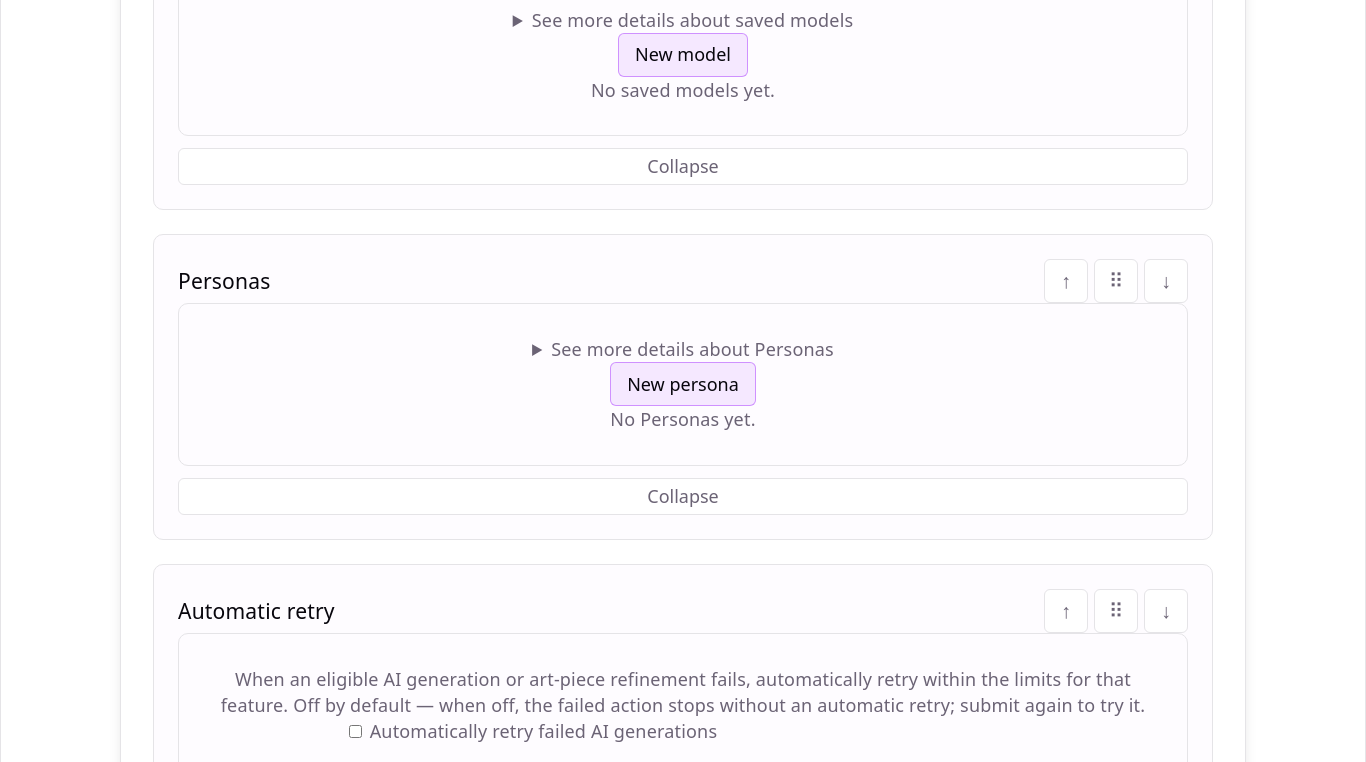
Test: AccountSettings › adds and removes a Persona
The image size is (1366, 762).
(page scrolled)
Expected: the text "No Personas yet." is shown, left=610, top=407, right=756, bottom=431
Step 1. Click the button "New persona" → coordinates (683, 384), box left=610, top=362, right=756, bottom=406
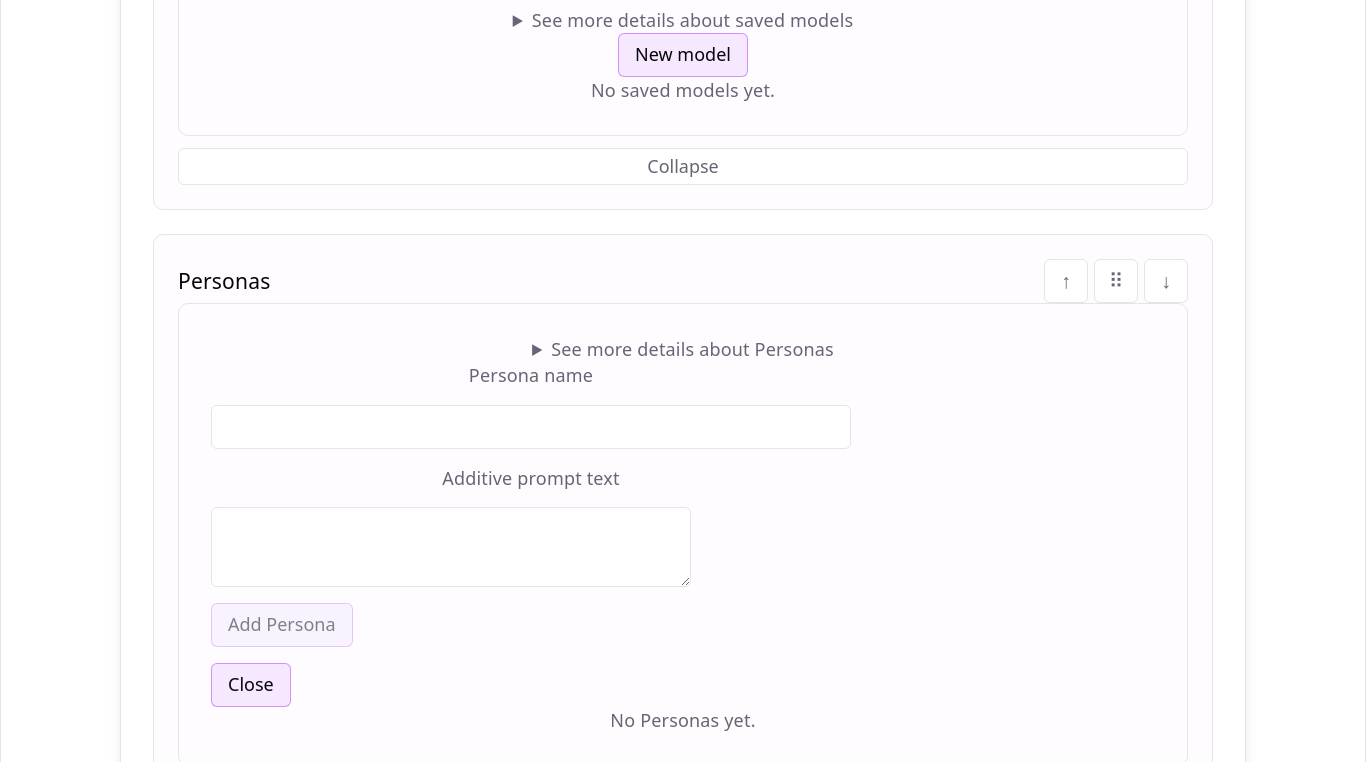
Step 2. Type "Playful" into the field labelled "Persona name" → coordinates (531, 427), box left=211, top=404, right=851, bottom=449
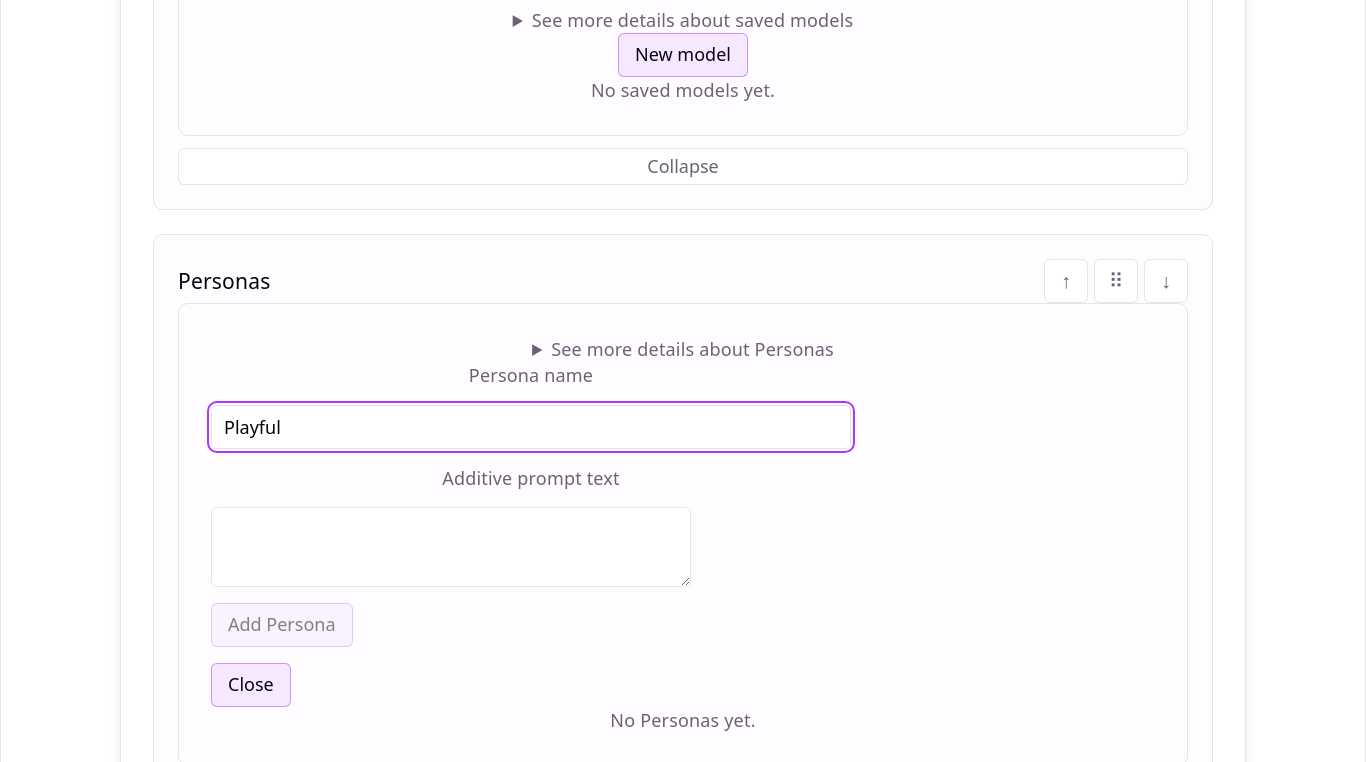
Step 3. Type "Prefer bright colors." into the text box labelled "Additive prompt text" → coordinates (451, 547), box left=211, top=507, right=691, bottom=587
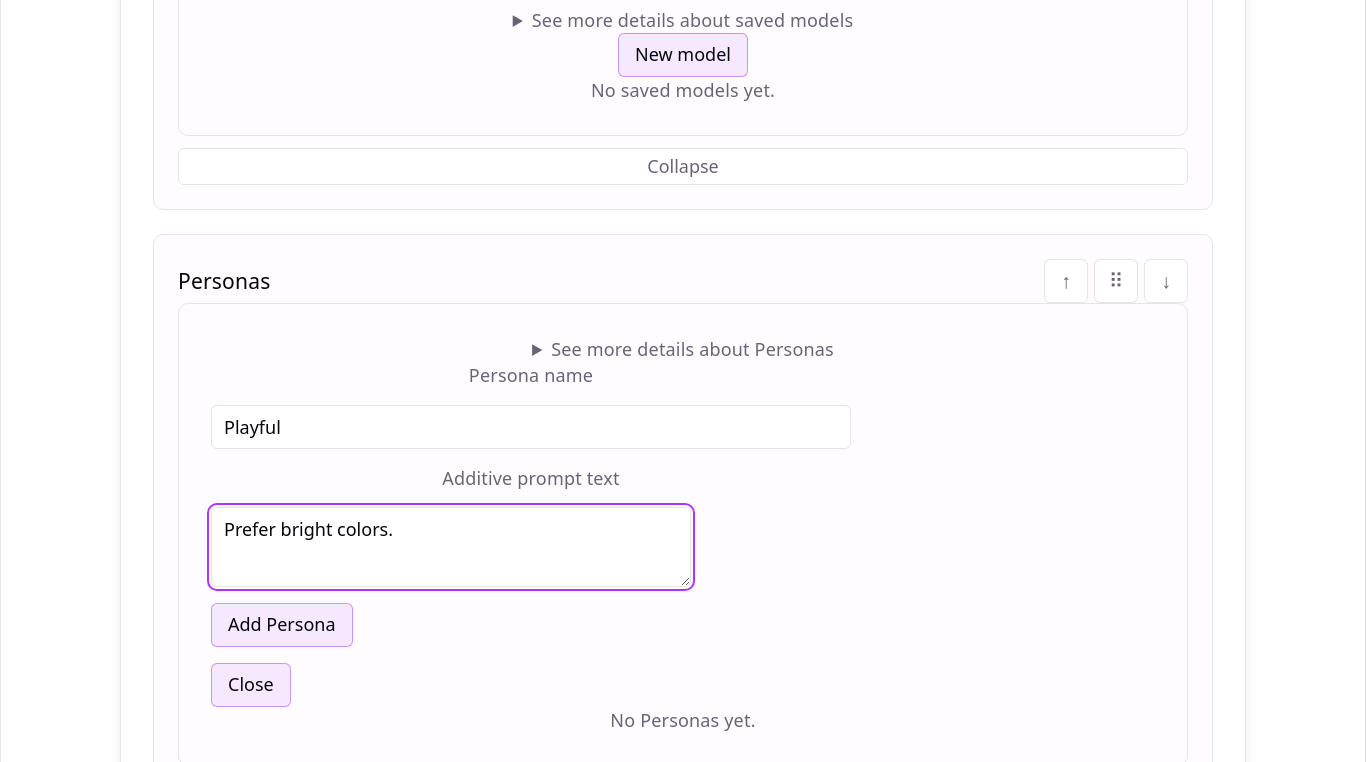
Step 4. Click the button "Add Persona" → coordinates (282, 625), box left=211, top=603, right=352, bottom=647
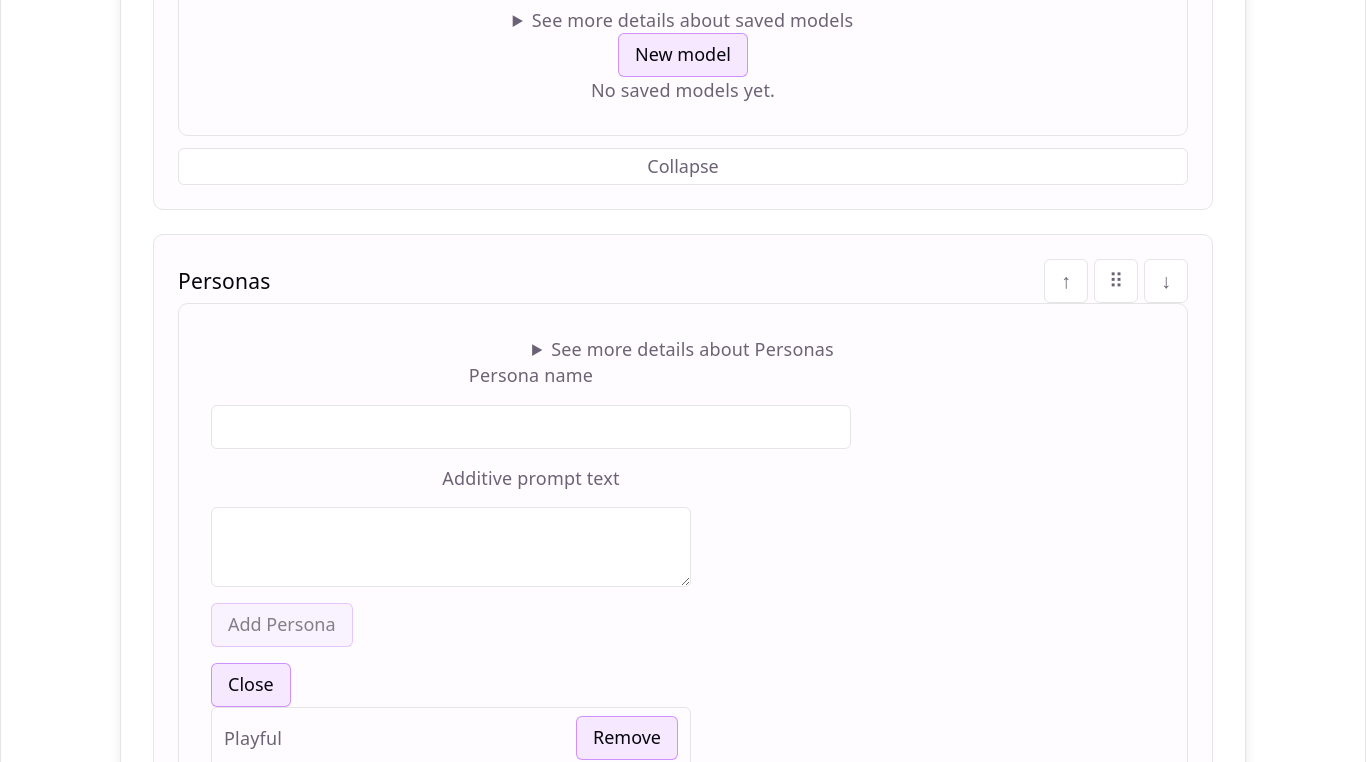
Now the text "Playful" is shown, box left=224, top=725, right=282, bottom=751
Step 5. Click the button with aria-label "remove persona playful" → coordinates (627, 738), box left=576, top=716, right=678, bottom=760
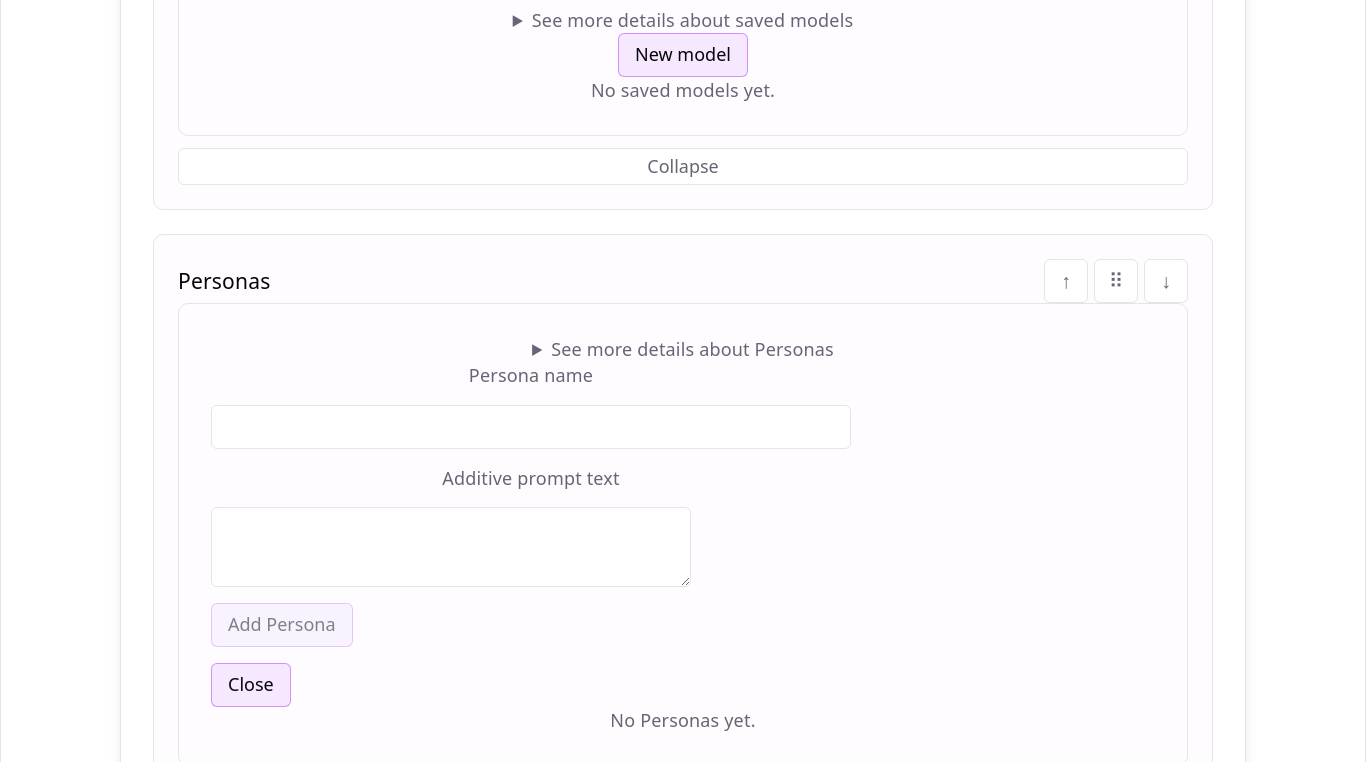
Now the text "No Personas yet." is shown, box left=610, top=708, right=756, bottom=732
